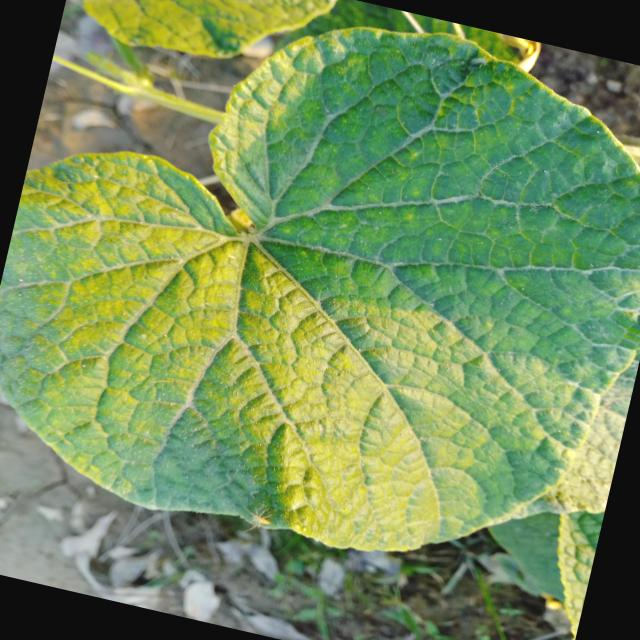cucumber_healthy: (0, 0, 640, 614), (57, 0, 341, 97)
